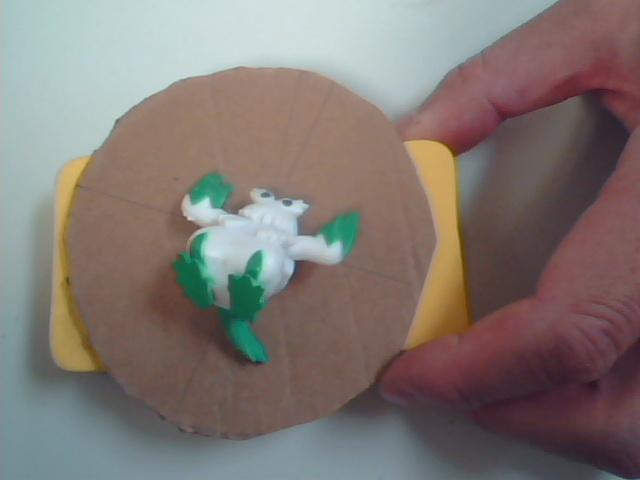abomasnow: (148, 160, 380, 386)
